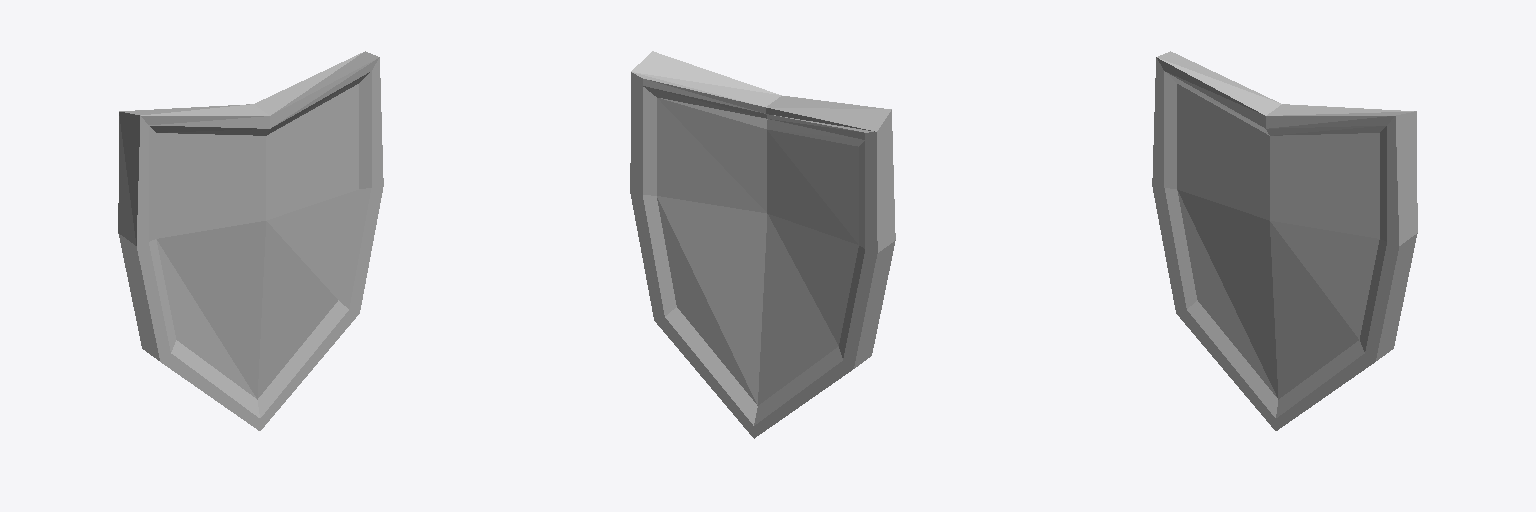
File: shield.obj
3 renders of one model, left to right at view 1: azimuth 30°, elevation 25°; view 2: azimuth 150°, elevation 25°; view 3: azimuth 330°, elevation 25°, orthographic.
Parts seen in each view (by area): view 1: Cube; view 2: Cube; view 3: Cube.
Part boxes in pixels (bbox=[...]): Cube: bbox=[118, 51, 383, 430]; Cube: bbox=[630, 51, 895, 438]; Cube: bbox=[1152, 51, 1417, 430].
Bounding box in the file's own units: 1.22 × 1.63 × 0.24.